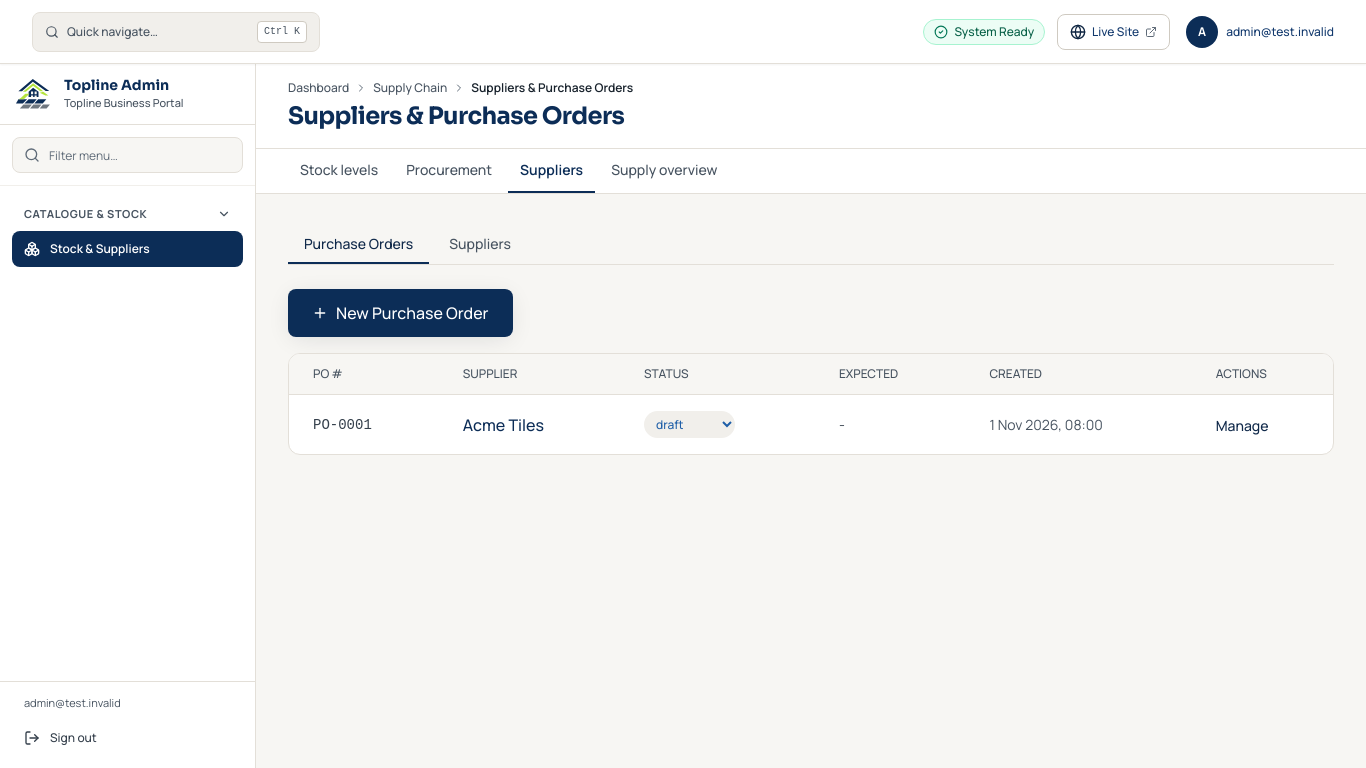
Scenario: admin: purchase order status › tells staff why a status change was refused
The width and height of the screenshot is (1366, 768).
Select "sent" in the dropdown named "Purchase order PO-0001 status" at (690, 424), box [644, 411, 735, 438]
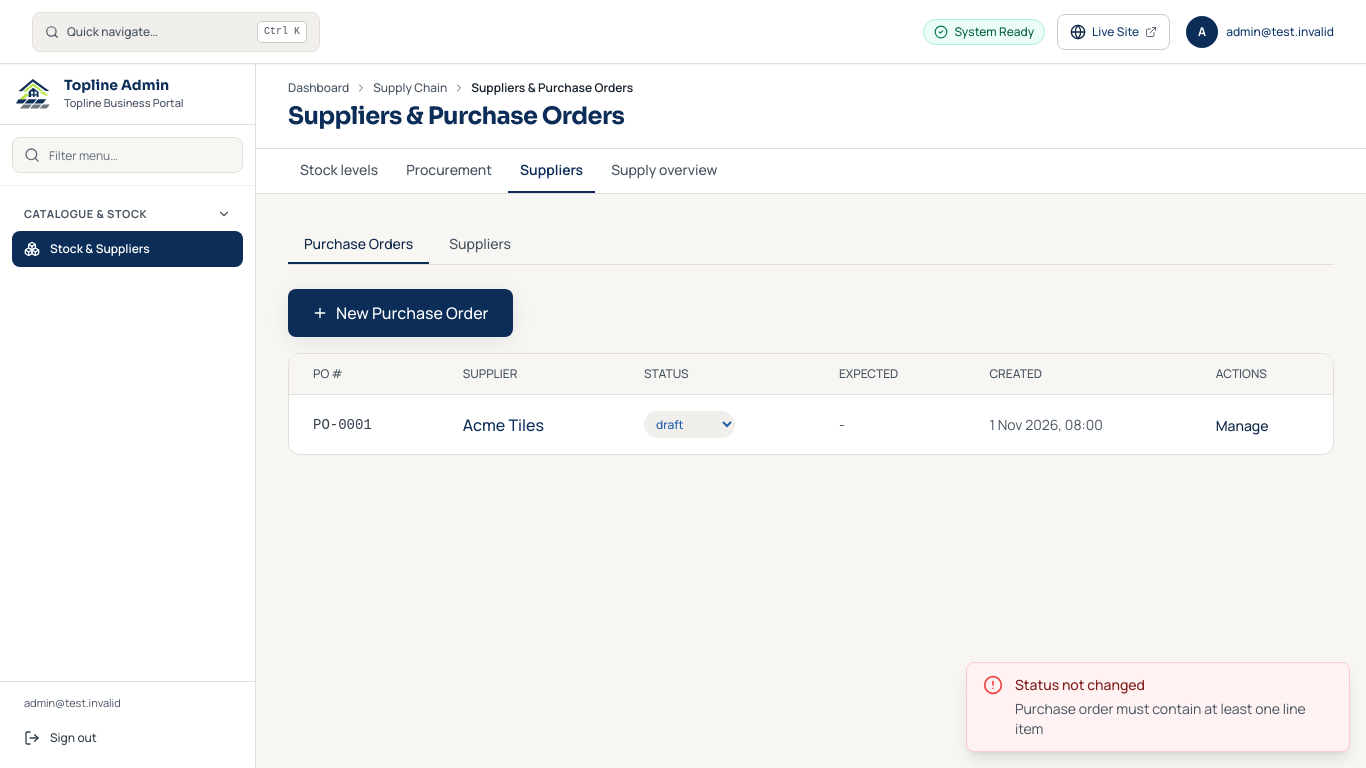
Expected: the text "Status not changed" is shown, [1015, 675, 1145, 694]
Expected: the text "Purchase order must contain at least one line item" is shown, [1015, 699, 1333, 739]
